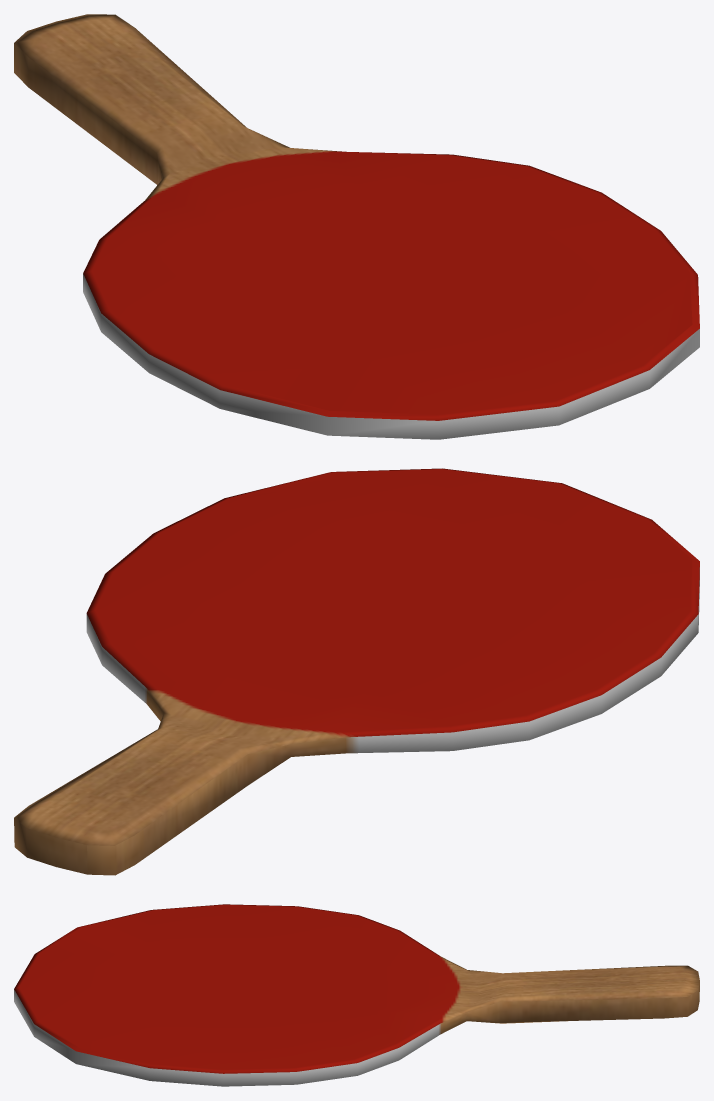
File: pong-racket.glb
3 views of the same model, one above another, from view 1: azimuth 30°, elevation 25°; view 2: azimuth 150°, elevation 25°; view 3: azimuth 270°, elevation 25° (orthographic). The views are drawn at different scales.
Visible parts, largest first — view 1: TT_Bat2_Material #28_0; view 2: TT_Bat2_Material #28_0; view 3: TT_Bat2_Material #28_0.
Boxes of the visible parts, x1,y1,x2,y2 form: TT_Bat2_Material #28_0: [14, 14, 699, 439]; TT_Bat2_Material #28_0: [14, 468, 699, 875]; TT_Bat2_Material #28_0: [14, 904, 699, 1086].
Size of the model in its own units: 0.1299 by 0.0129 by 0.2228.
Materials: 1 (1 with a texture image).
